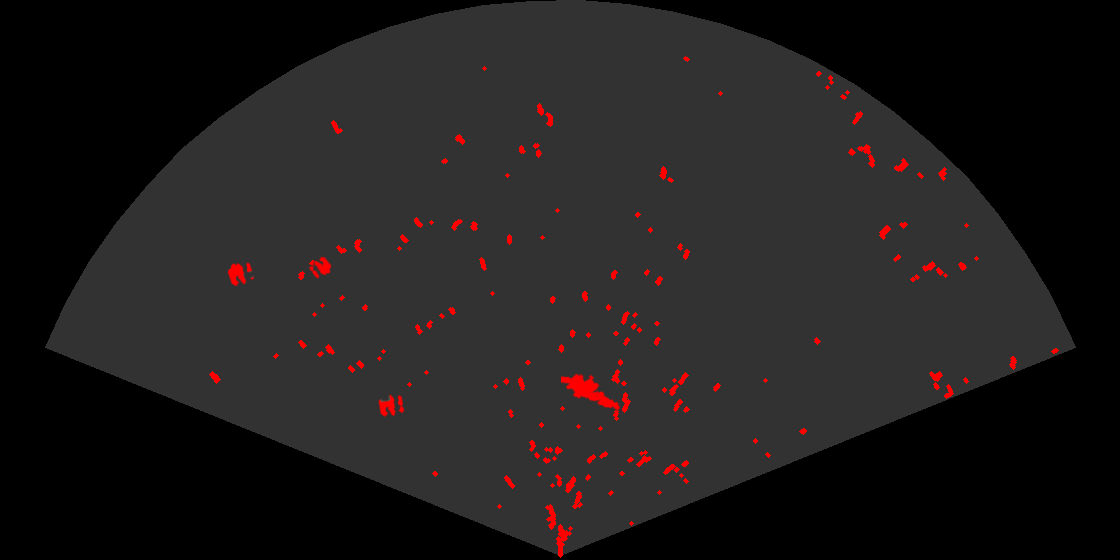ball: (226, 261, 256, 288), (377, 393, 406, 419), (307, 255, 333, 280)
frogman: (561, 372, 622, 411)
